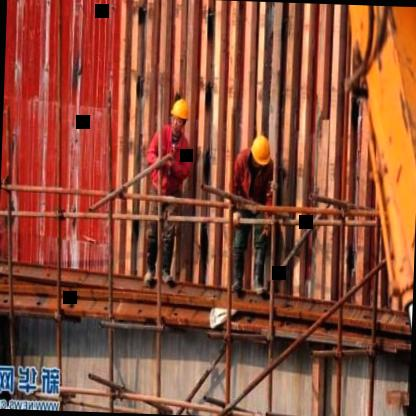helmet: (247, 130, 274, 178), (169, 96, 191, 136)
